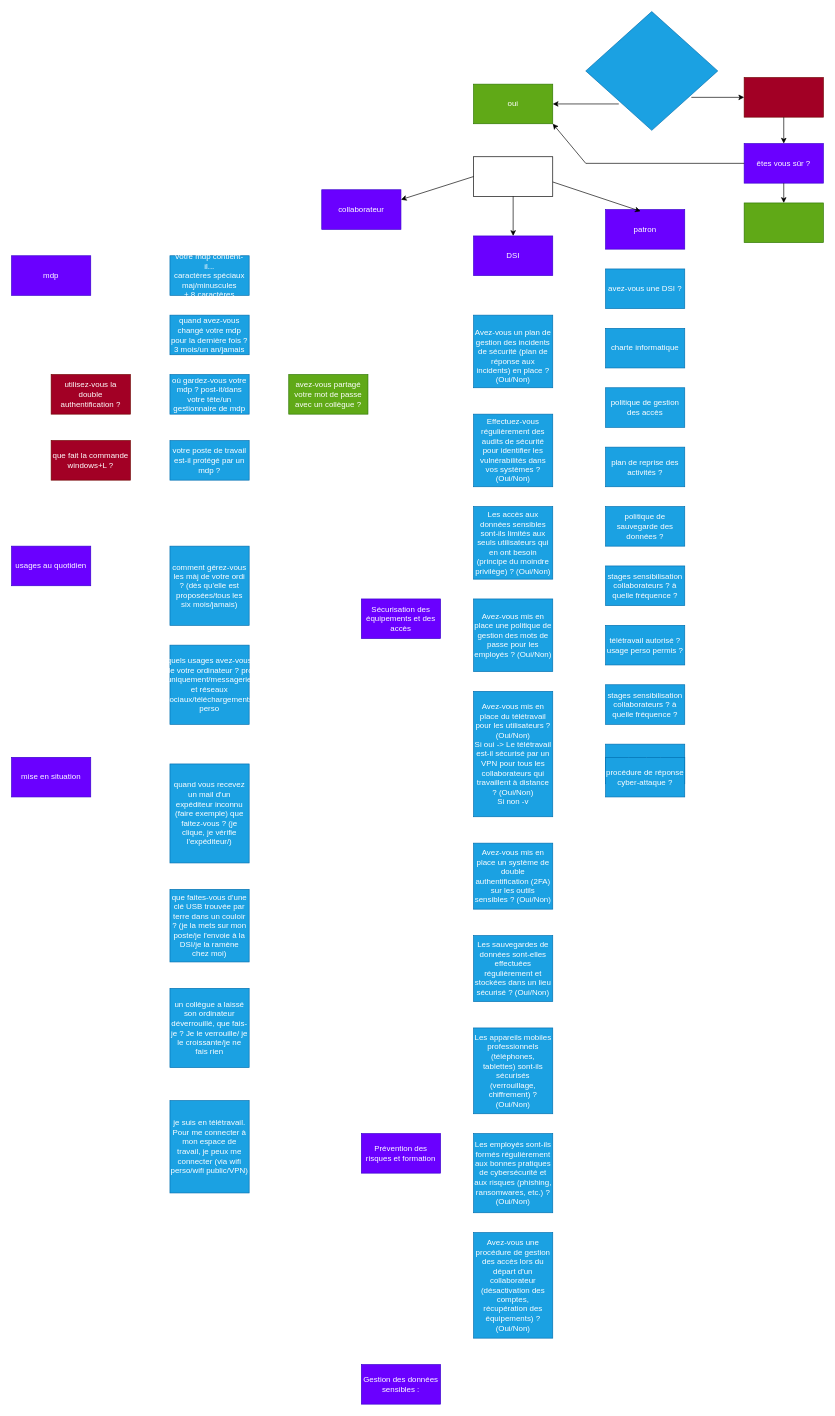
The diagram is 835 pixels wide and 1416 high, and some of its shapes have lost their labels. The centre of each missing label's shape, as x and y in pixels:
"non" belongs at point (783, 97).
"page conseils général + contact" belongs at point (783, 222).
"Voulez-vous tester vos connaissances en matière de cybersécurité ?" belongs at point (651, 70).
"êtes-vous collaborateur/DSI/patron ?" belongs at point (513, 176).
